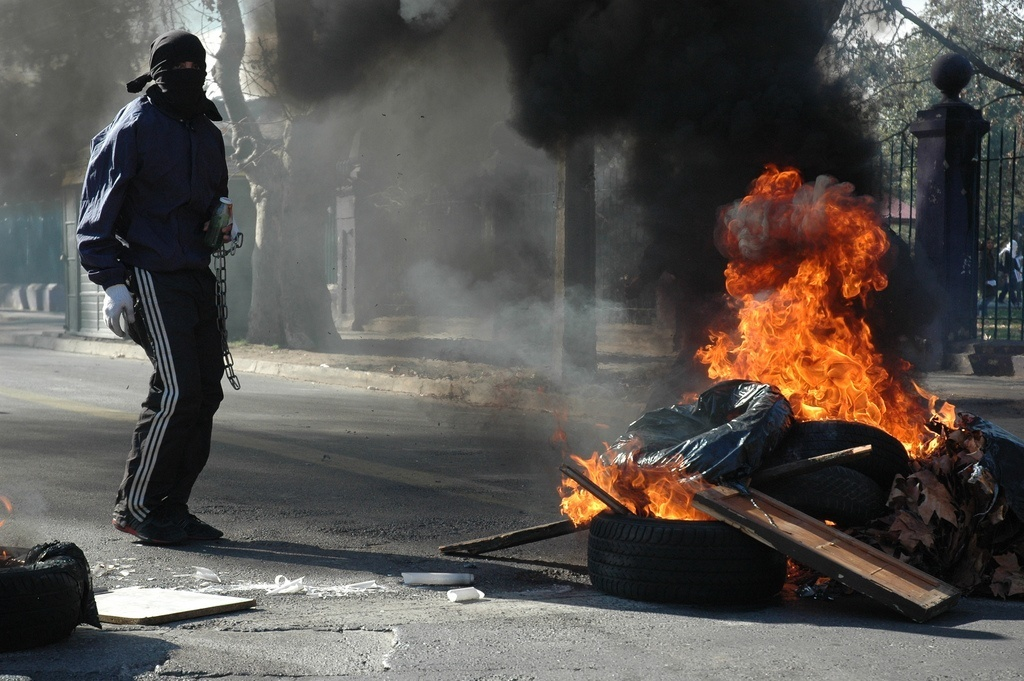fire: (688, 160, 972, 496)
